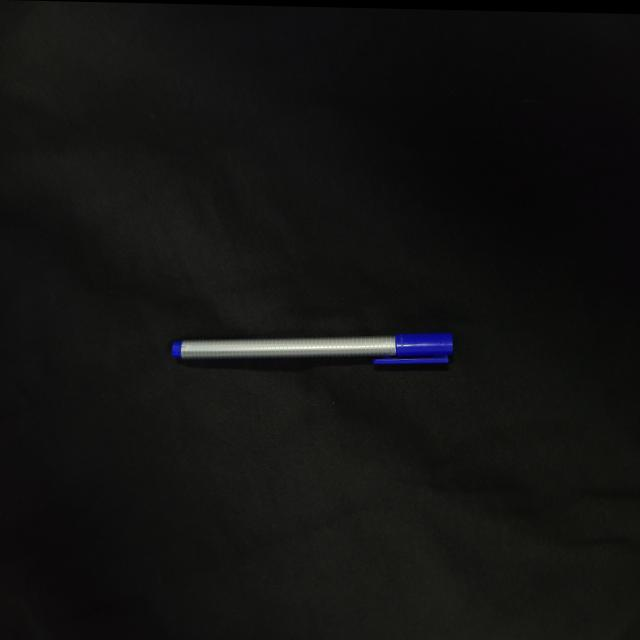caneta: (168, 304, 458, 390)
